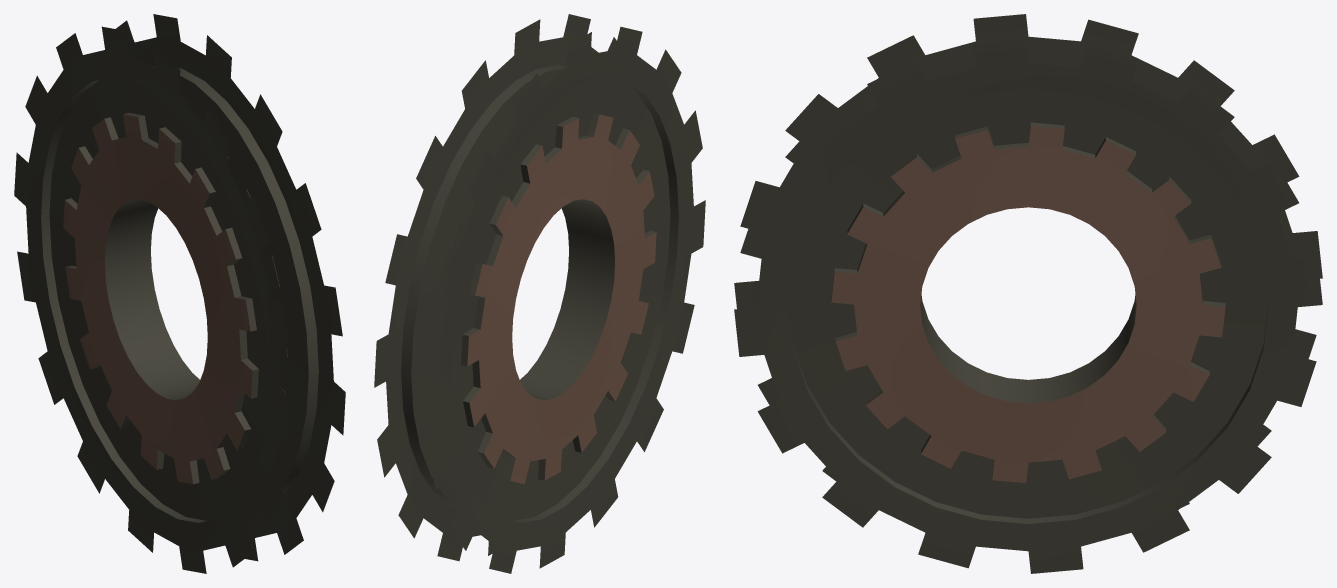
File: rouage.fbx
3 views of the same model, side by side, from view 1: azimuth 30°, elevation 25°; view 2: azimuth 150°, elevation 25°; view 3: azimuth 270°, elevation 25° (orthographic). The views are drawn at different scales.
Parts seen in each view (by area): view 1: Cylinder.005; view 2: Cylinder.005; view 3: Cylinder.005.
Boxes of the visible parts, left/top/right/bottom form: Cylinder.005: left=14, top=14, right=345, bottom=573; Cylinder.005: left=374, top=14, right=705, bottom=573; Cylinder.005: left=734, top=14, right=1322, bottom=573.
Size of the model in its own units: 34.24 by 322 by 322.
